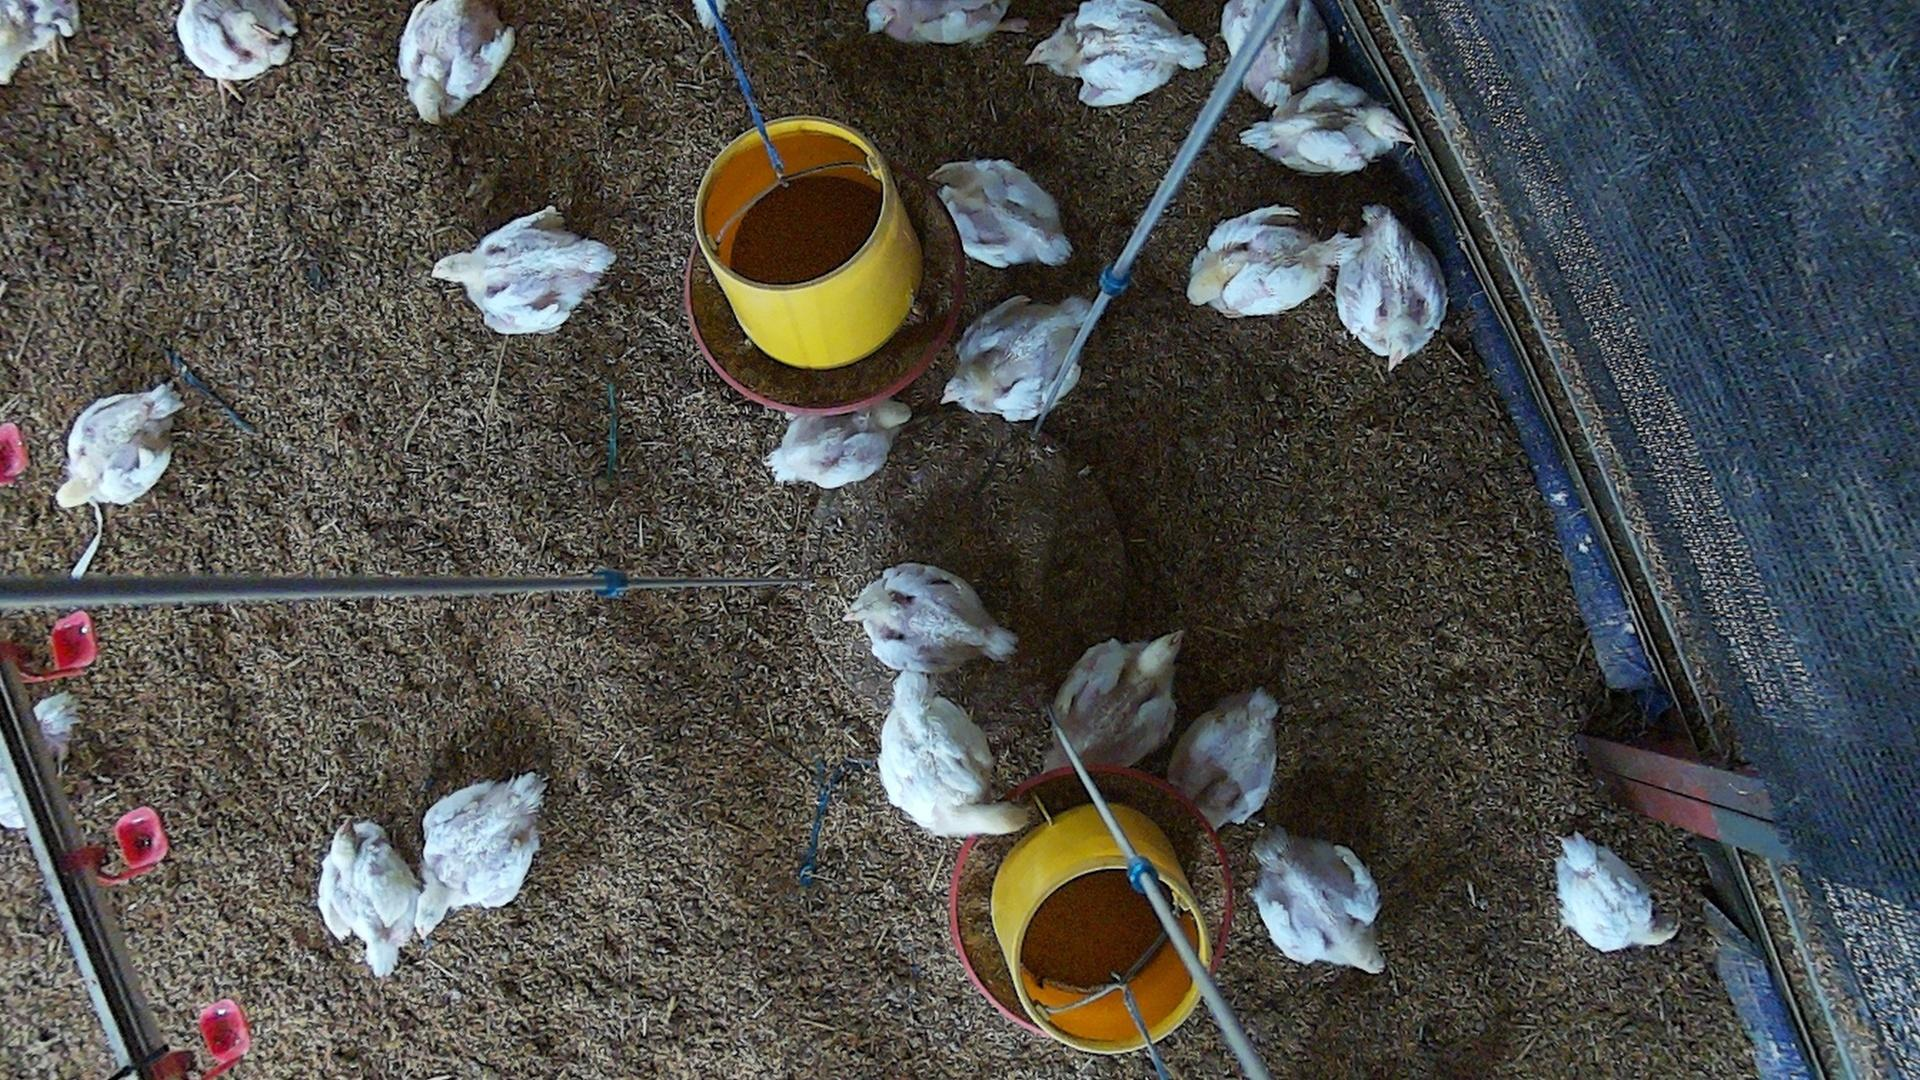ayam_broiler: (431, 210, 613, 334), (880, 666, 1005, 835), (417, 771, 543, 938), (940, 291, 1091, 425), (848, 563, 1018, 675), (1030, 0, 1208, 104), (1249, 832, 1382, 971), (1333, 203, 1443, 368), (1051, 637, 1178, 774), (318, 820, 426, 980), (1188, 206, 1345, 315), (1240, 79, 1410, 174), (58, 384, 183, 506), (1170, 688, 1278, 828), (935, 158, 1072, 265), (398, 0, 514, 124), (1556, 835, 1676, 949), (1212, 0, 1331, 112), (177, 0, 298, 108), (767, 397, 909, 487), (872, 0, 1013, 44)
